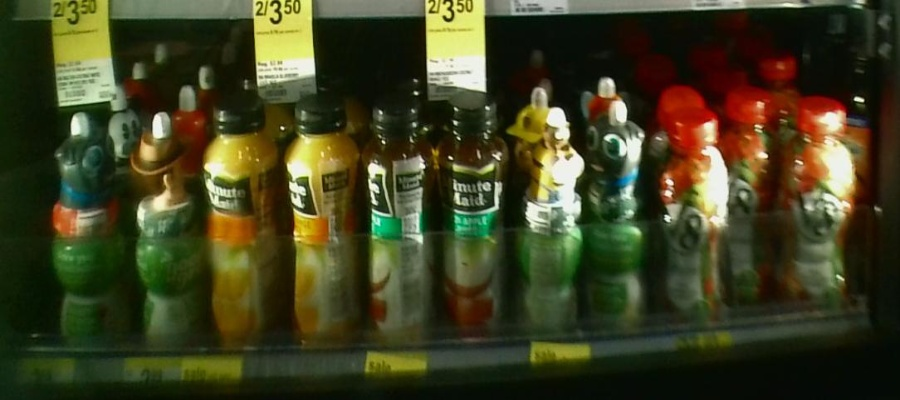bottle: (202, 86, 279, 354), (284, 94, 359, 350), (362, 97, 436, 347), (51, 113, 126, 353), (515, 90, 587, 338), (441, 88, 512, 338), (128, 105, 199, 352), (780, 89, 856, 318), (657, 103, 728, 333), (591, 90, 650, 347), (732, 90, 777, 316)
